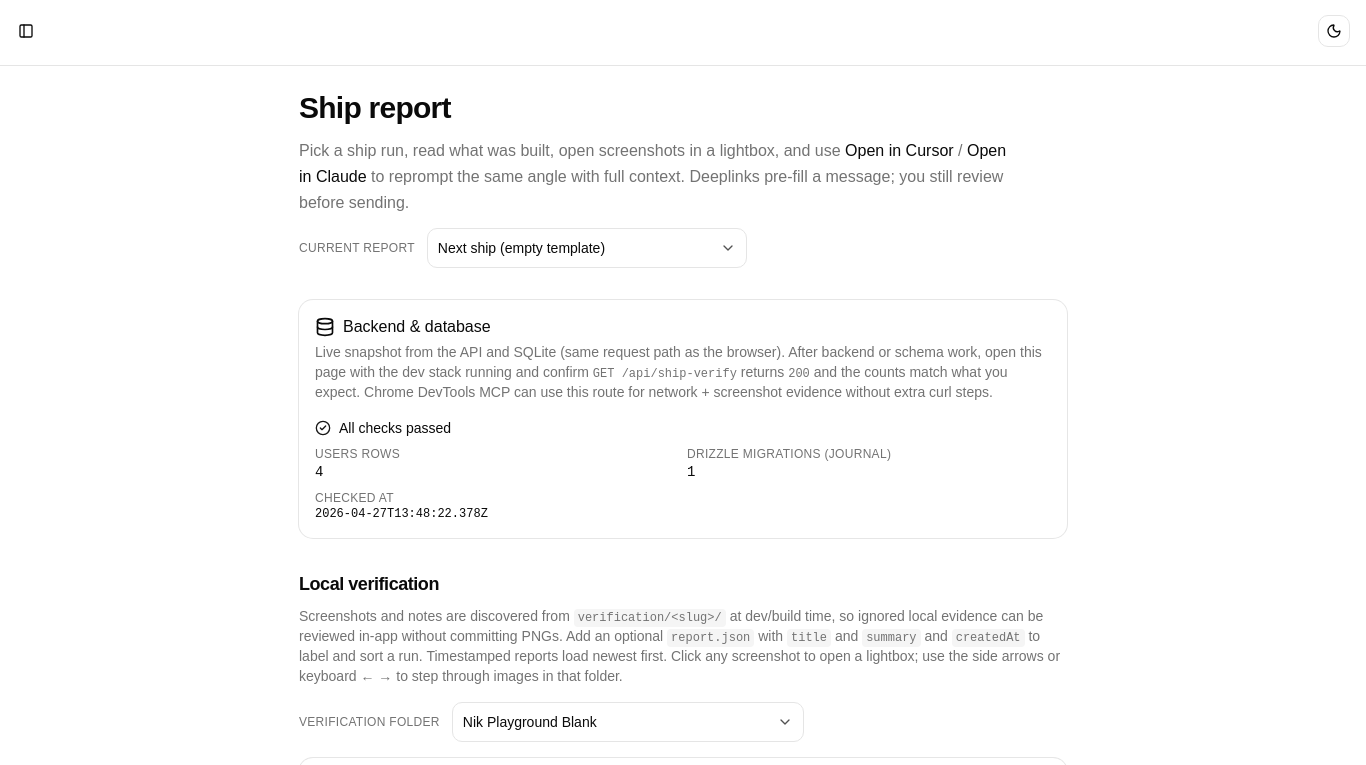
Test: router › shows committed branch evidence images when that ship report is selected
Check: the element with test id "ship-verify-status" reads "All checks passed", box [339,420,451,436]
Click the button with aria-label "select ship report".
click(587, 248)  # box [427,228,747,268]
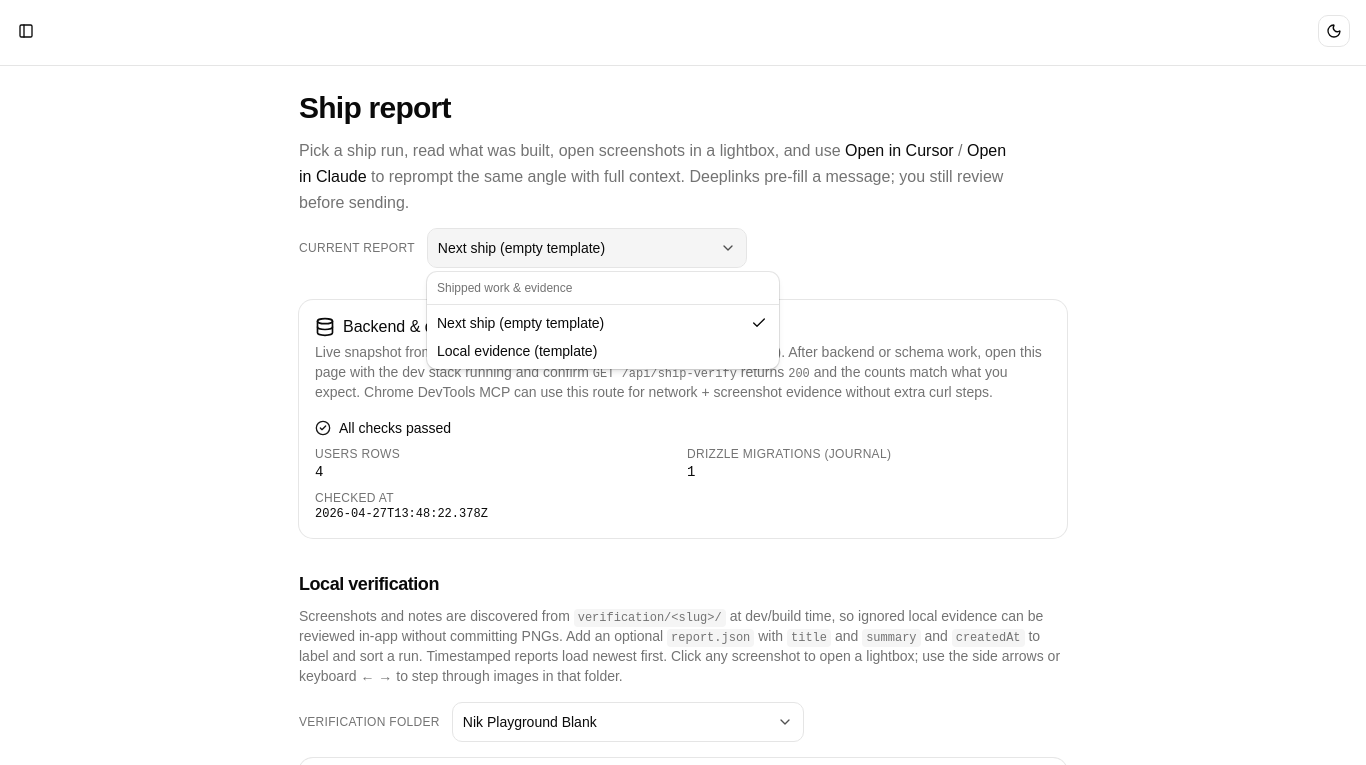
Click the menu item "Local evidence (template)".
click(517, 351)  # box [437,343,597,359]
(page scrolled)
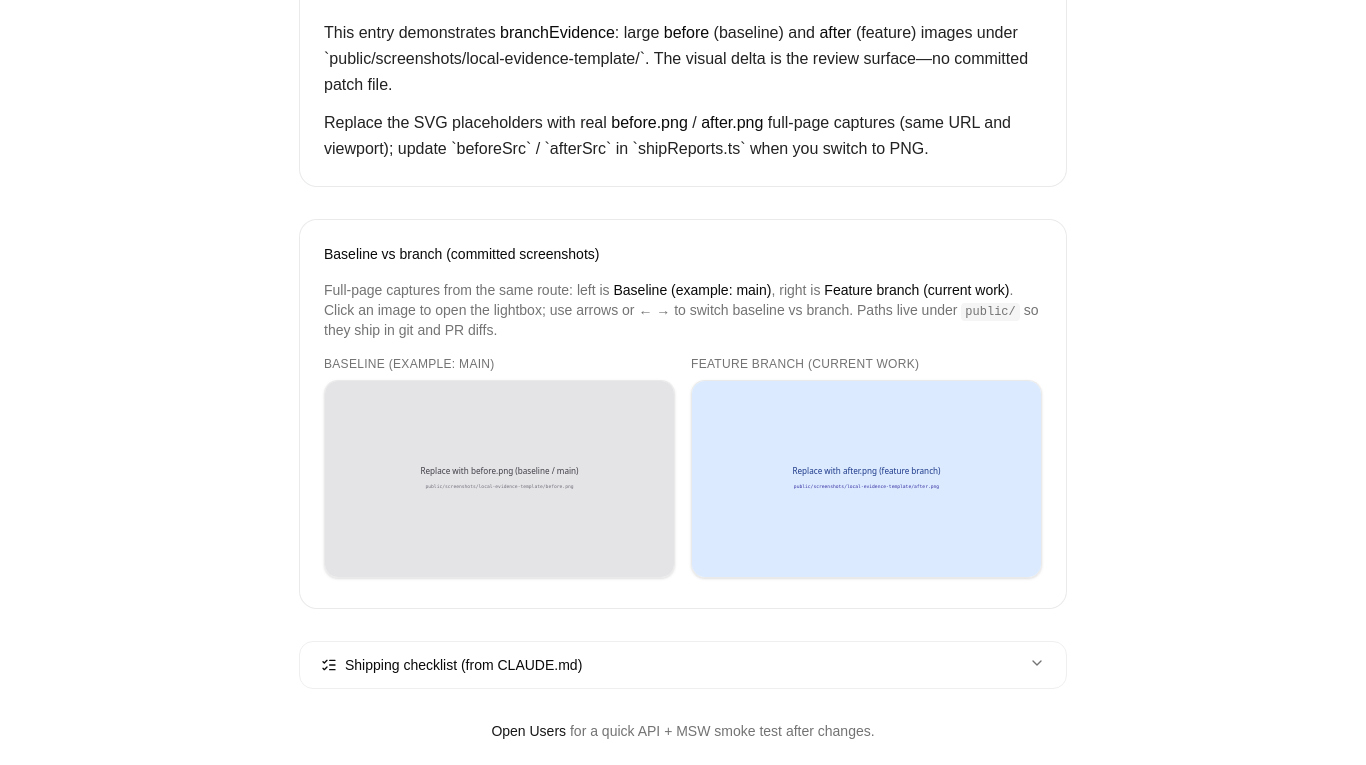
Check: the element with test id "ship-branch-evidence" is shown, box [299,219,1067,609]
Check: the picture named "full-page capture: baseline" is shown, box [325,381,674,577]
Check: the picture named "full-page capture: feature branch" is shown, box [692,381,1041,577]
